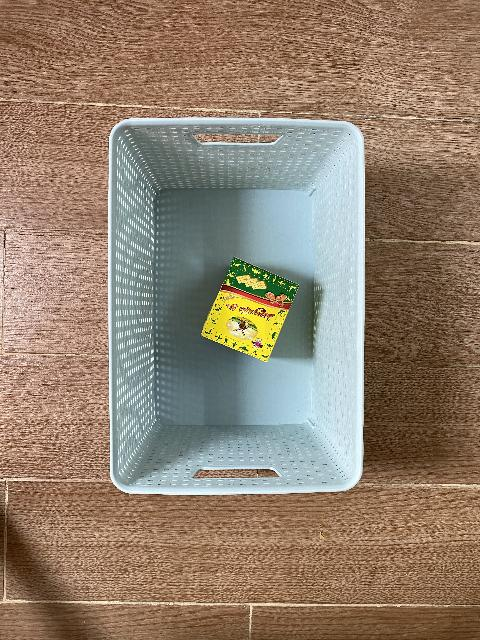cart: (108, 118, 366, 495)
luong_kho: (200, 257, 299, 363)
